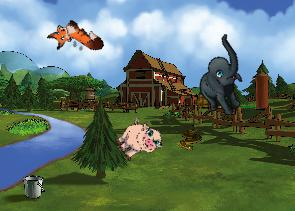elephant: (180, 33, 265, 122)
fox: (44, 11, 106, 69)
pig: (110, 113, 166, 168)
